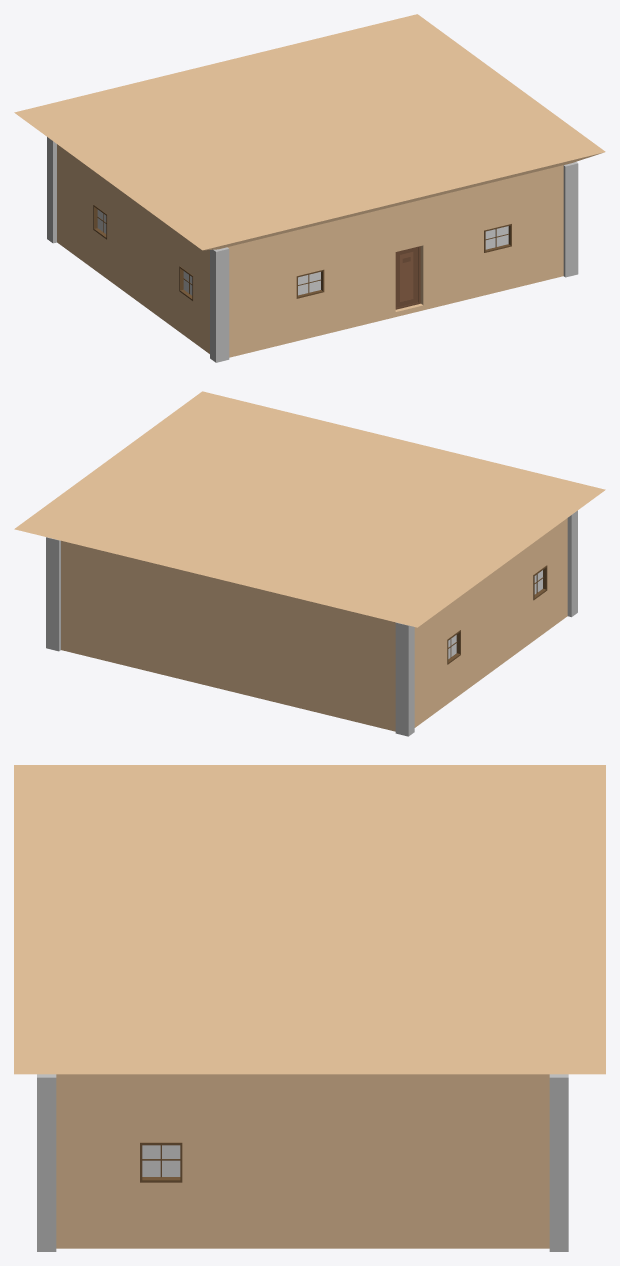
The model's file is House_15.fbx.
The picture shows the model from 3 angles, top to bottom: view 1: azimuth 30°, elevation 25°; view 2: azimuth 150°, elevation 25°; view 3: azimuth 270°, elevation 25°; orthographic projection. The views are drawn at different scales.
Visible parts, largest first — view 1: House_15_Body; view 2: House_15_Body; view 3: House_15_Body.
Boxes of the visible parts, <box> form: House_15_Body: <box>14,14,605,362</box>; House_15_Body: <box>14,391,605,736</box>; House_15_Body: <box>14,765,605,1251</box>.
Size of the model in its own units: 1801 by 524 by 1457.
